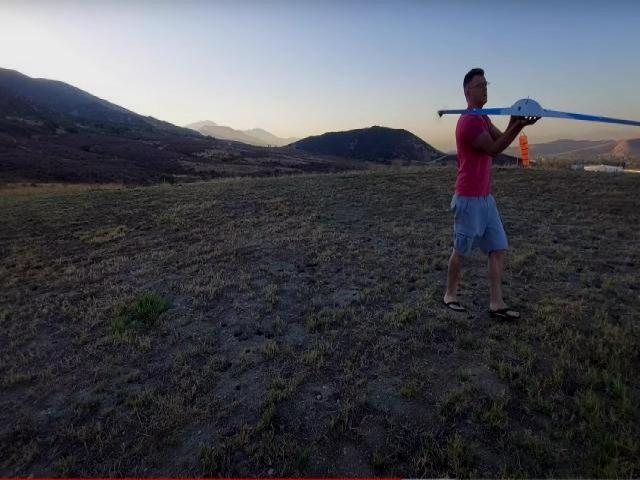iha: (437, 96, 640, 131)
